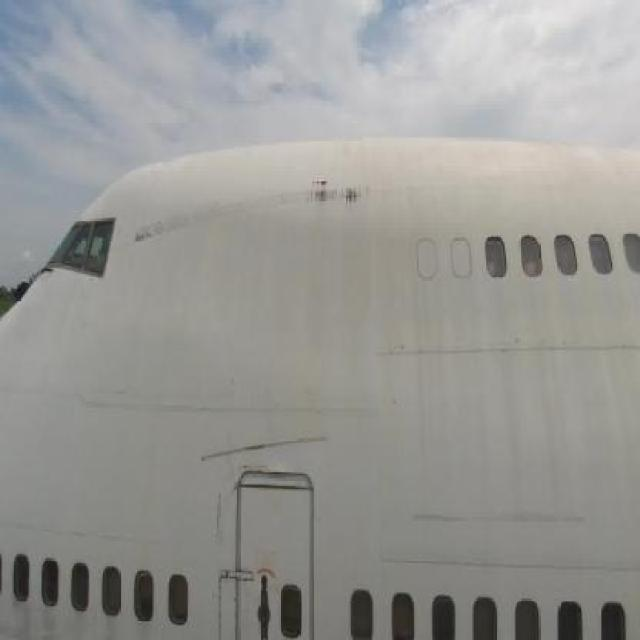Rust: (298, 170, 374, 222)
Scartch: (129, 216, 169, 247), (208, 482, 225, 550), (244, 432, 267, 463), (227, 463, 241, 505)
